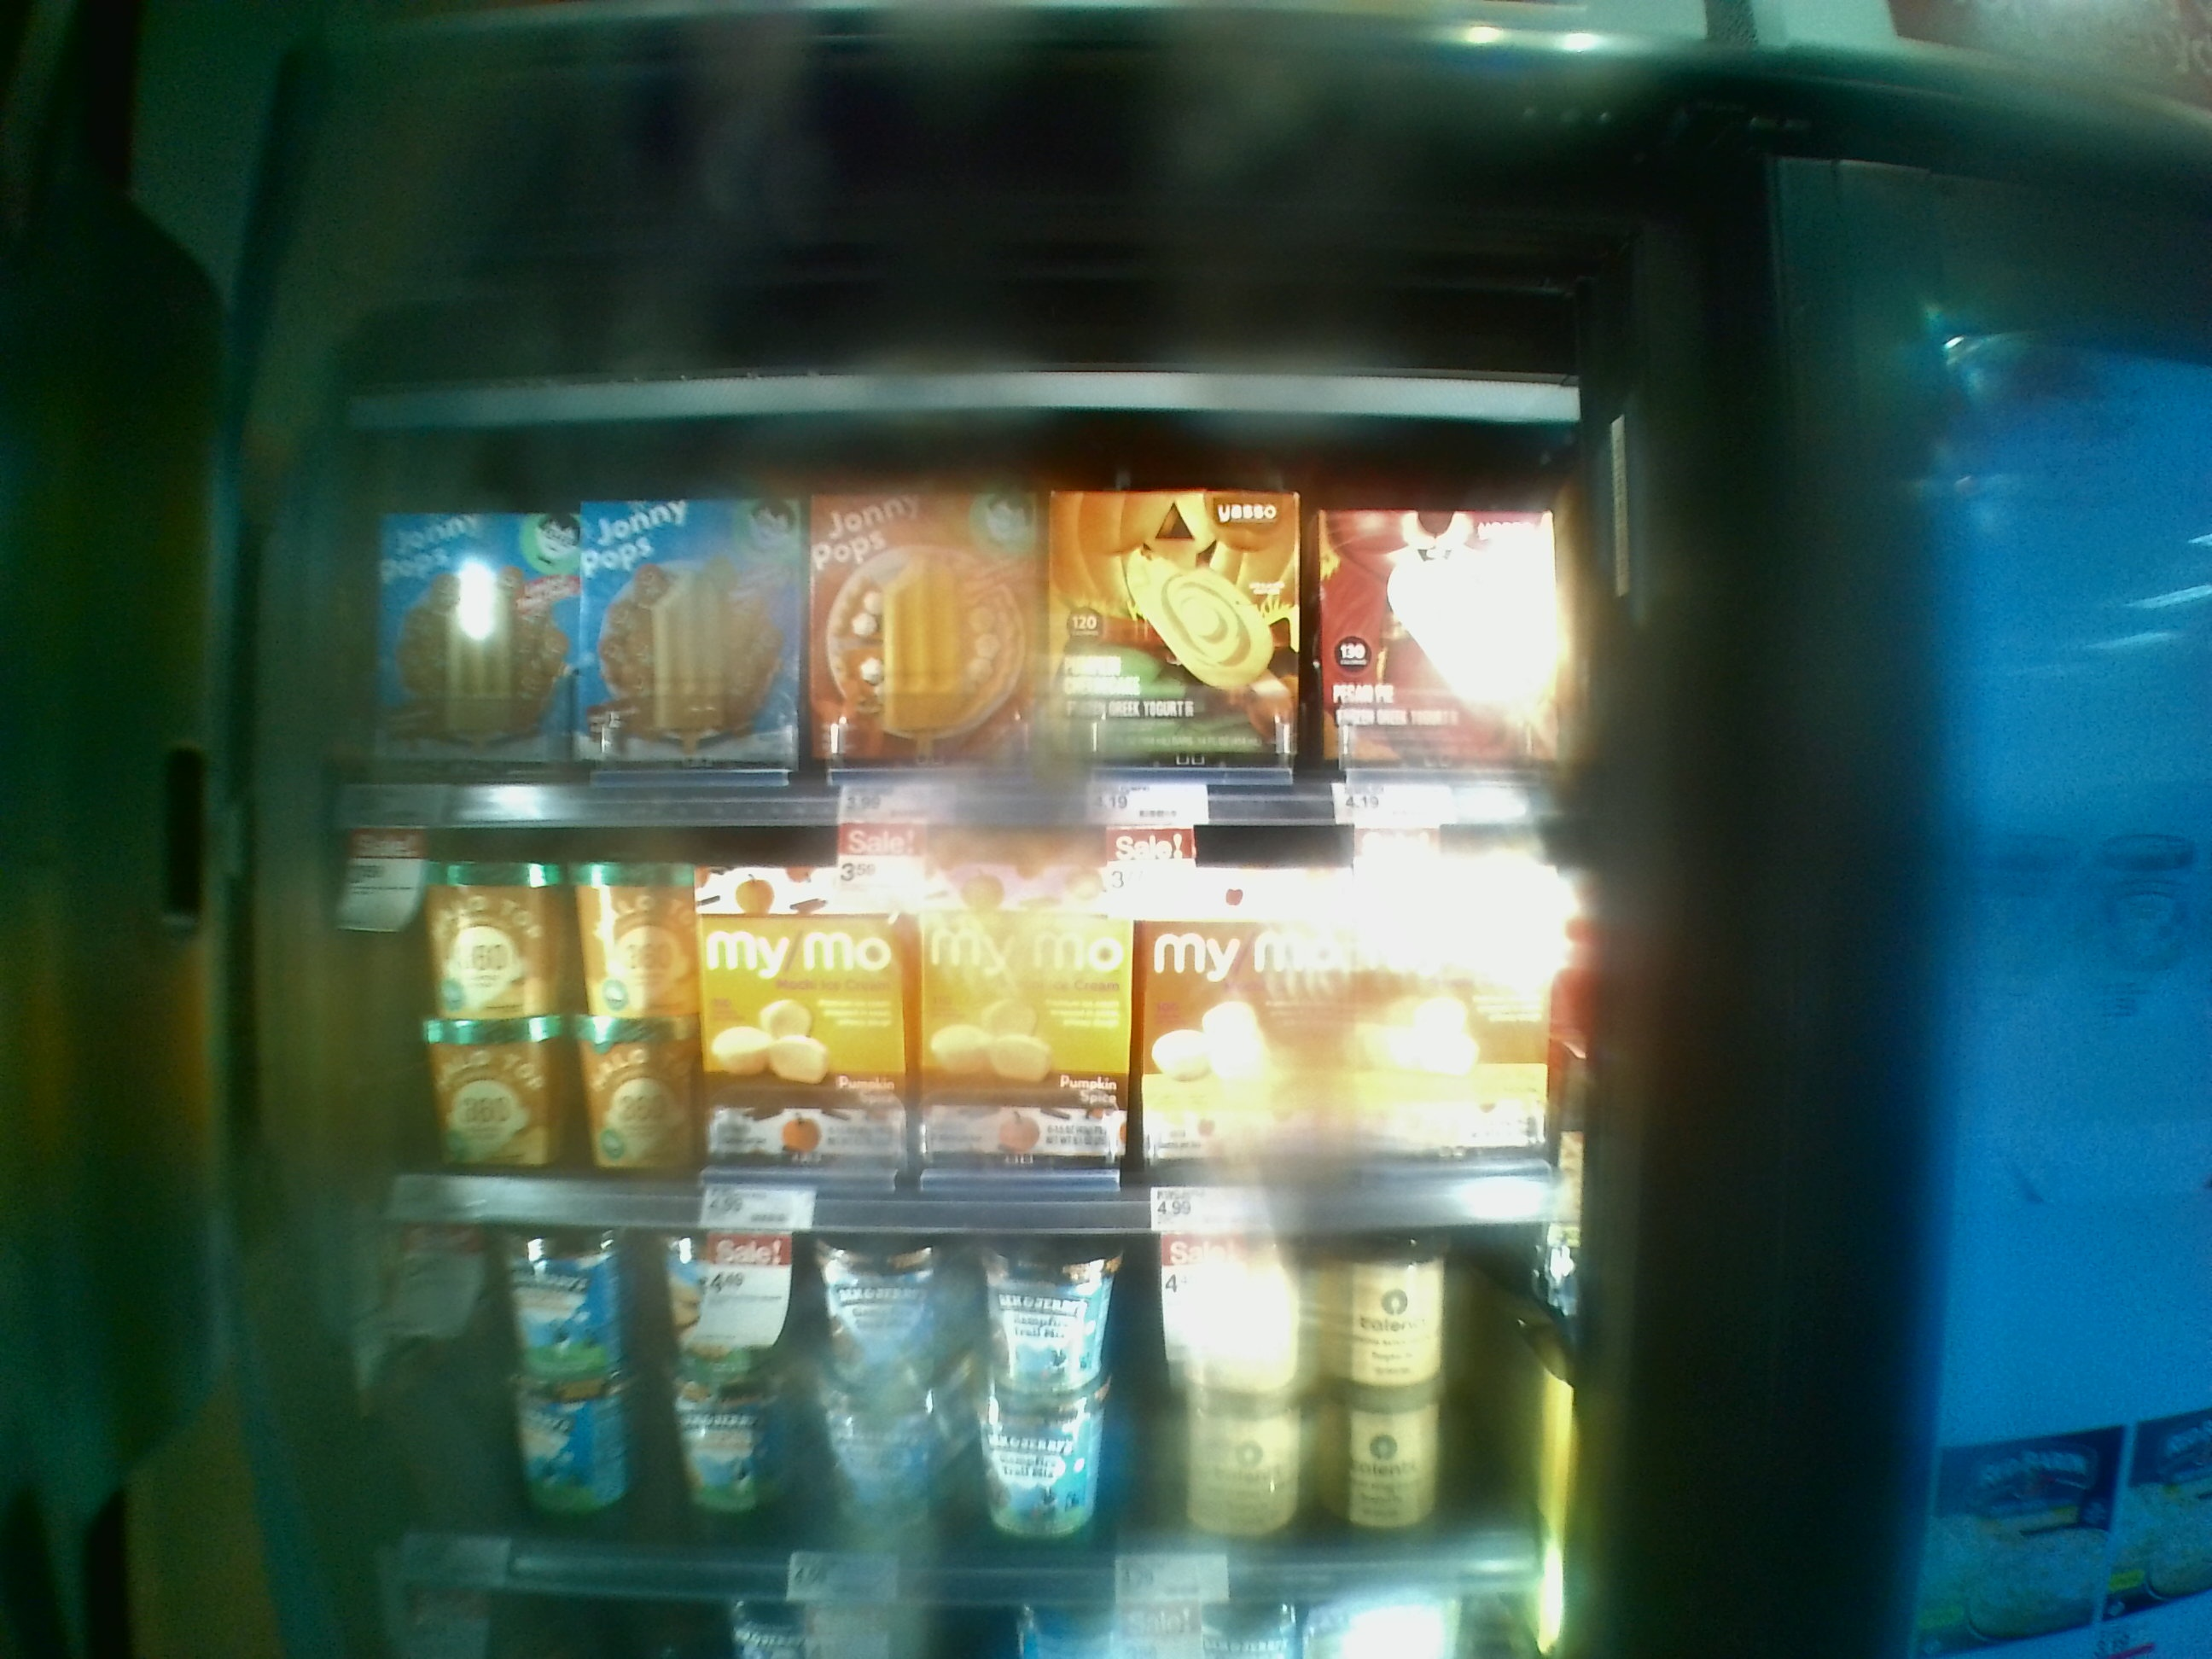shelf: (329, 788, 1569, 1223), (324, 396, 1587, 817), (333, 1176, 1527, 1582)
